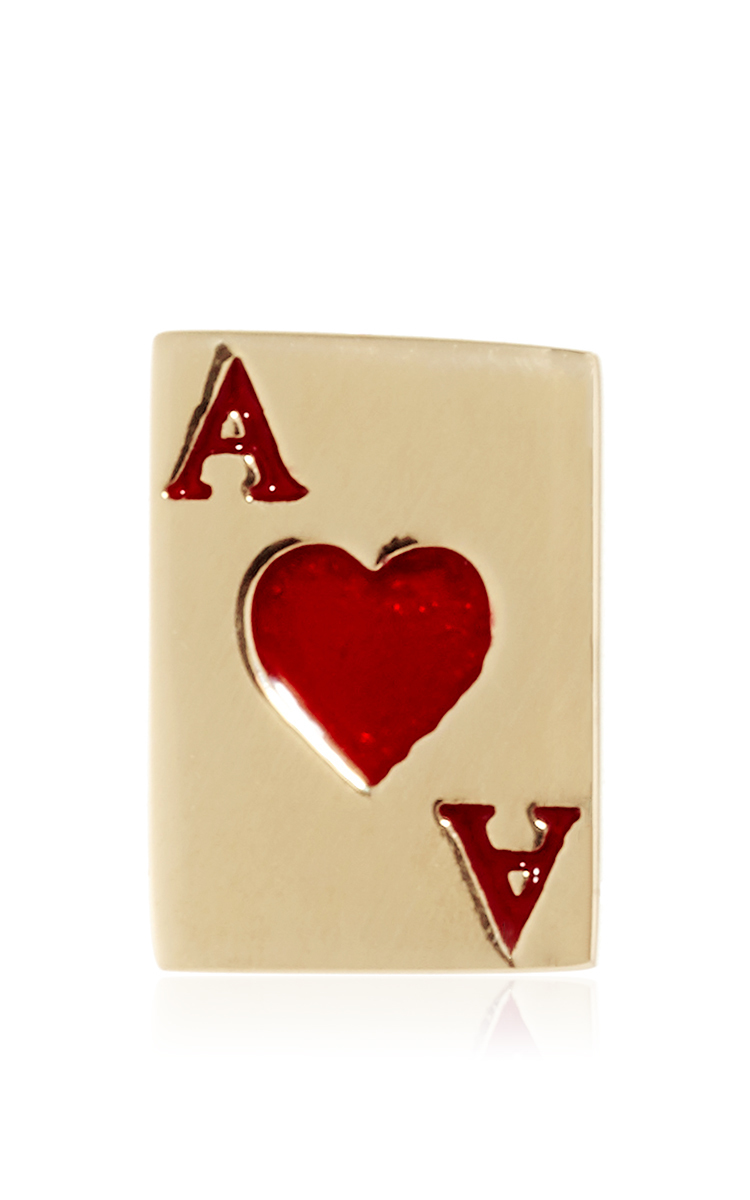ace of hearts: (149, 328, 603, 978)
